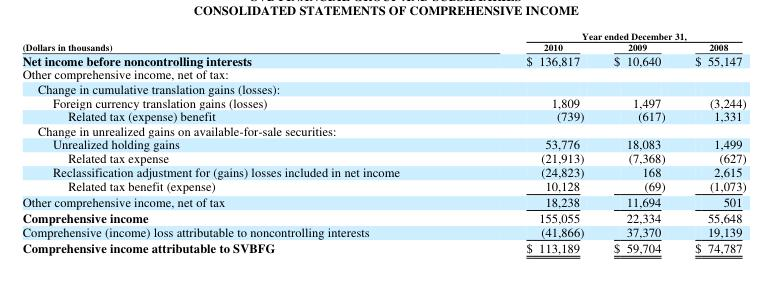table: (21, 28, 745, 256)
table column: (21, 28, 462, 256), (462, 28, 598, 256), (598, 28, 679, 256), (679, 28, 745, 256)
table column header: (21, 28, 745, 52)
table projected row header: (21, 80, 745, 94), (21, 122, 745, 136), (21, 67, 745, 80)
table row: (21, 239, 745, 256), (21, 193, 745, 209), (21, 52, 745, 67), (21, 178, 745, 193), (21, 209, 745, 224), (21, 224, 745, 239), (21, 80, 745, 94), (21, 94, 745, 108), (21, 108, 745, 122), (21, 122, 745, 136), (21, 136, 745, 150), (21, 150, 745, 164), (21, 164, 745, 178), (21, 28, 745, 41), (21, 67, 745, 80), (21, 41, 745, 52)
table spanning cell: (21, 28, 462, 52), (462, 28, 745, 41)
